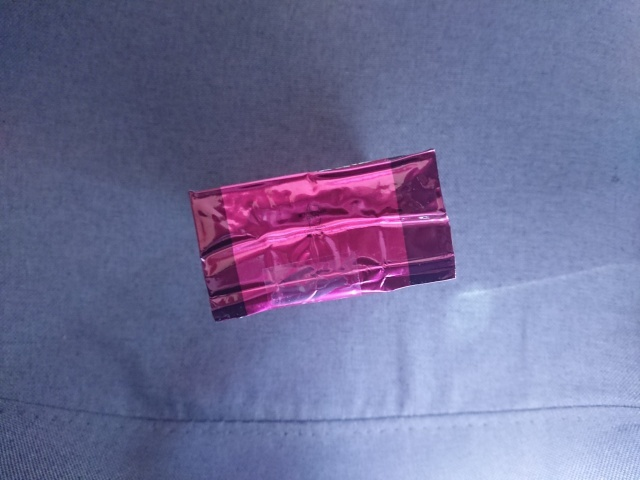Barcaffe Classic Original 225g: (184, 144, 458, 325)
